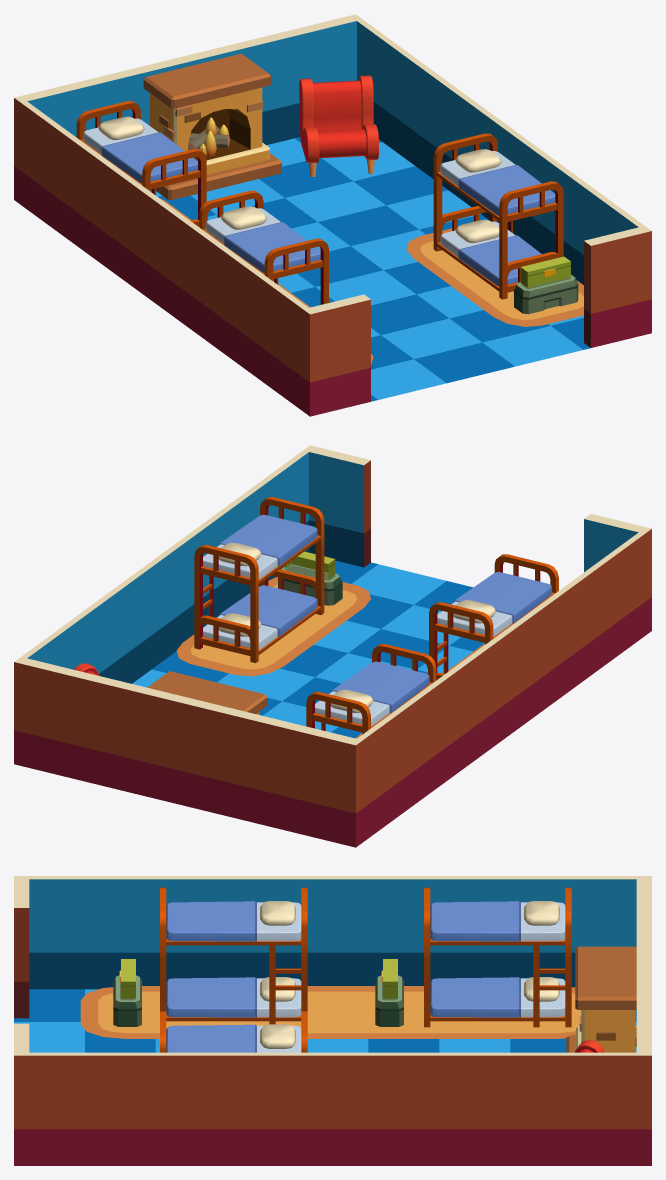
The model's file is Barrack_Lv2_VIP_winter.fbx.
3 renders of one model, top to bottom at view 1: azimuth 30°, elevation 25°; view 2: azimuth 150°, elevation 25°; view 3: azimuth 270°, elevation 25°, orthographic. The views are drawn at different scales.
Visible parts, largest first — view 1: unit128, wall_half4, wall_half5, wall22, Bed9, pasted__Fireplace, wall21, wall20, Bed8, Bed1, MESH_Hotel1RoomsDecorSet2Armchair1, Floor5 (+2 smaller); view 2: wall22, wall_half4, wall_half5, unit128, Bed9, Bed8, Bed1, wall21, Floor5, wall20, pasted__Fireplace, big_chest4; view 3: wall_half5, wall_half4, Bed1, Bed8, Floor4, unit128, pasted__Fireplace, wall22, Bed9, wall20, wall21, big_chest1 (+3 smaller).
Part boxes in pixels (<box>): unit128: <box>150,137,590,401</box>; wall_half4: <box>14,97,308,412</box>; wall_half5: <box>353,14,646,284</box>; wall22: <box>14,14,361,204</box>; Bed9: <box>433,133,563,299</box>; pasted__Fireplace: <box>143,53,282,200</box>; wall21: <box>584,227,651,347</box>; wall20: <box>303,294,370,416</box>; Bed8: <box>199,190,328,304</box>; Bed1: <box>76,101,206,226</box>; MESH_Hotel1RoomsDecorSet2Armchair1: <box>299,75,378,177</box>; Floor5: <box>406,228,583,326</box>; wall22: <box>14,657,362,847</box>; wall_half4: <box>349,530,647,847</box>; wall_half5: <box>15,448,311,683</box>; unit128: <box>132,560,484,738</box>; Bed9: <box>194,497,324,663</box>; Bed8: <box>429,554,558,680</box>; Bed1: <box>306,644,436,734</box>; wall21: <box>306,445,370,567</box>; Floor5: <box>176,577,370,676</box>; wall20: <box>584,514,651,634</box>; pasted__Fireplace: <box>147,671,267,714</box>; big_chest4: <box>278,564,342,605</box>; wall_half5: <box>23,1052,651,1165</box>; wall_half4: <box>23,876,651,989</box>; Bed1: <box>424,887,571,1027</box>; Bed8: <box>160,887,307,1024</box>; Floor4: <box>80,986,581,1038</box>; unit128: <box>14,989,636,1052</box>; pasted__Fireplace: <box>566,946,636,1052</box>; wall22: <box>636,876,651,1165</box>; Bed9: <box>160,1011,307,1052</box>; wall20: <box>14,876,29,1018</box>; wall21: <box>14,1023,29,1165</box>; big_chest1: <box>113,975,141,1026</box>.
Size of the model in its own units: 700 by 212 by 1050.
